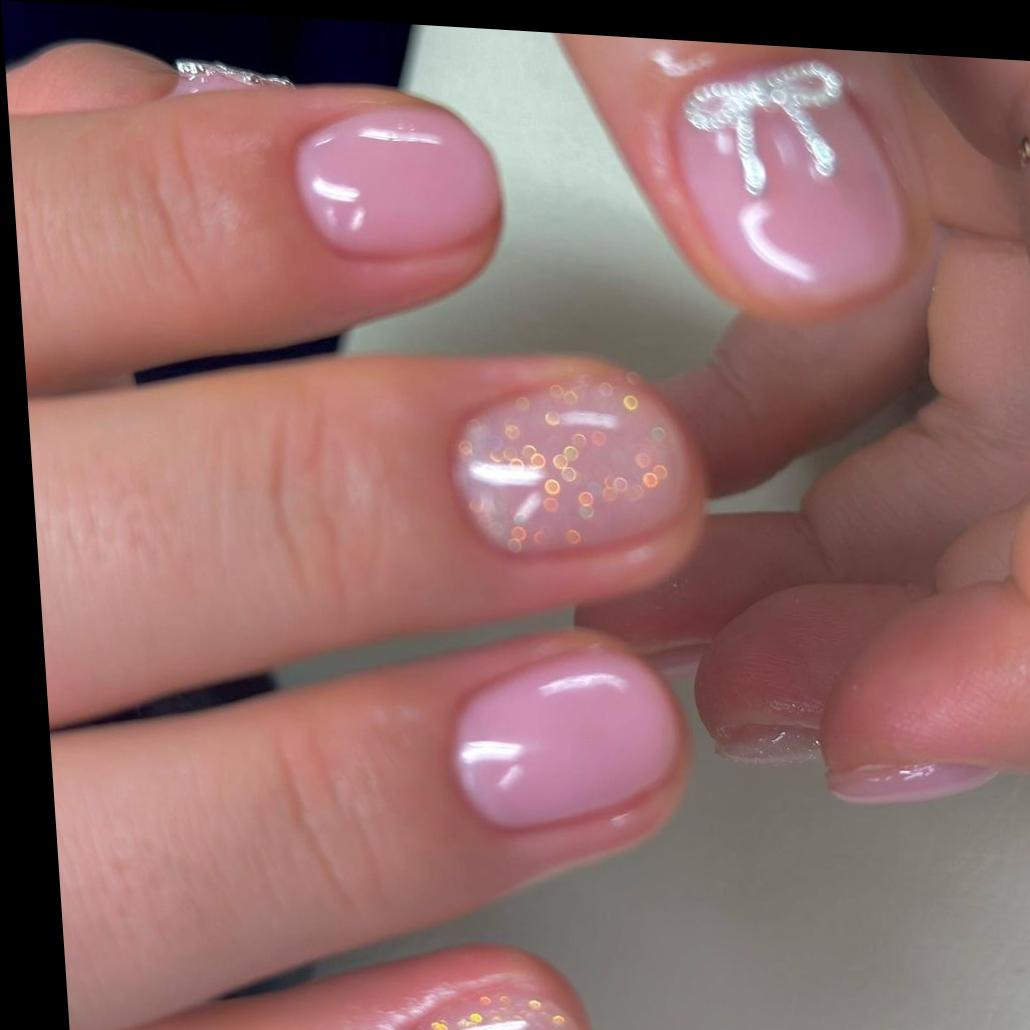nail: (538, 32, 936, 334), (438, 357, 711, 576), (436, 630, 692, 845), (682, 569, 945, 777), (284, 96, 505, 271), (820, 756, 1000, 813)
